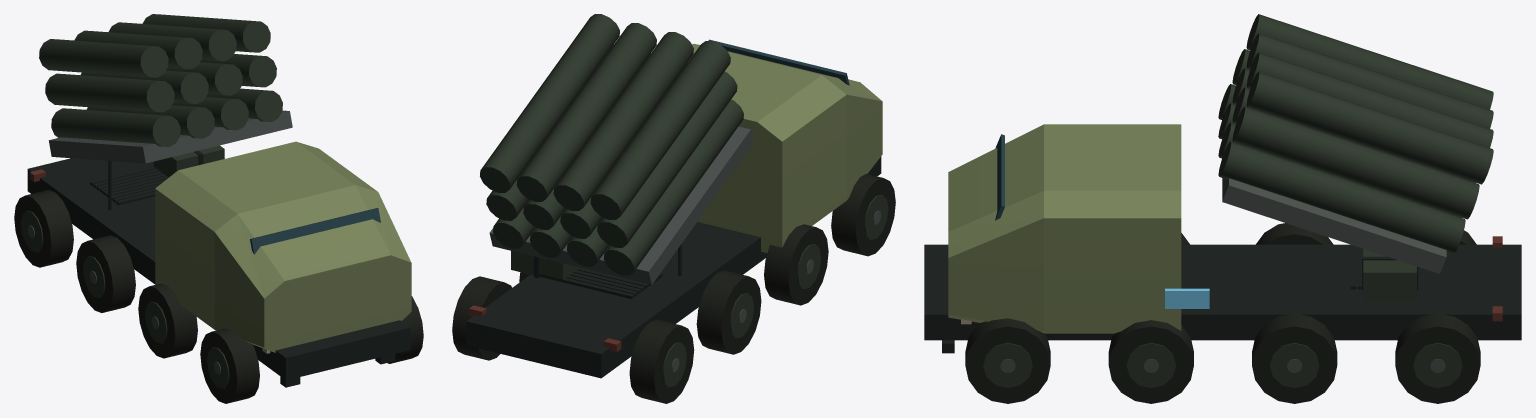
File: mlrs.glb
3 renders of one model, left to right at view 1: azimuth 30°, elevation 25°; view 2: azimuth 150°, elevation 25°; view 3: azimuth 270°, elevation 25°, orthographic. The views are drawn at different scales.
Visible parts, largest first — view 1: equipment (×2), armor, glass; view 2: equipment (×2), armor, glass; view 3: equipment (×2), armor, marking, glass.
Part boxes in pixels (left/top/right/bottom): equipment (×2): left=14, top=14, right=423, bottom=403; armor: left=155, top=141, right=411, bottom=352; glass: left=250, top=208, right=380, bottom=254; equipment (×2): left=452, top=14, right=895, bottom=403; armor: left=688, top=44, right=882, bottom=252; glass: left=708, top=39, right=849, bottom=85; equipment (×2): left=924, top=14, right=1521, bottom=403; armor: left=948, top=124, right=1181, bottom=333; marking: left=1165, top=288, right=1209, bottom=308; glass: left=995, top=134, right=1004, bottom=220.
Size of the model in its own units: 2.84 by 3.8 by 6.7.
